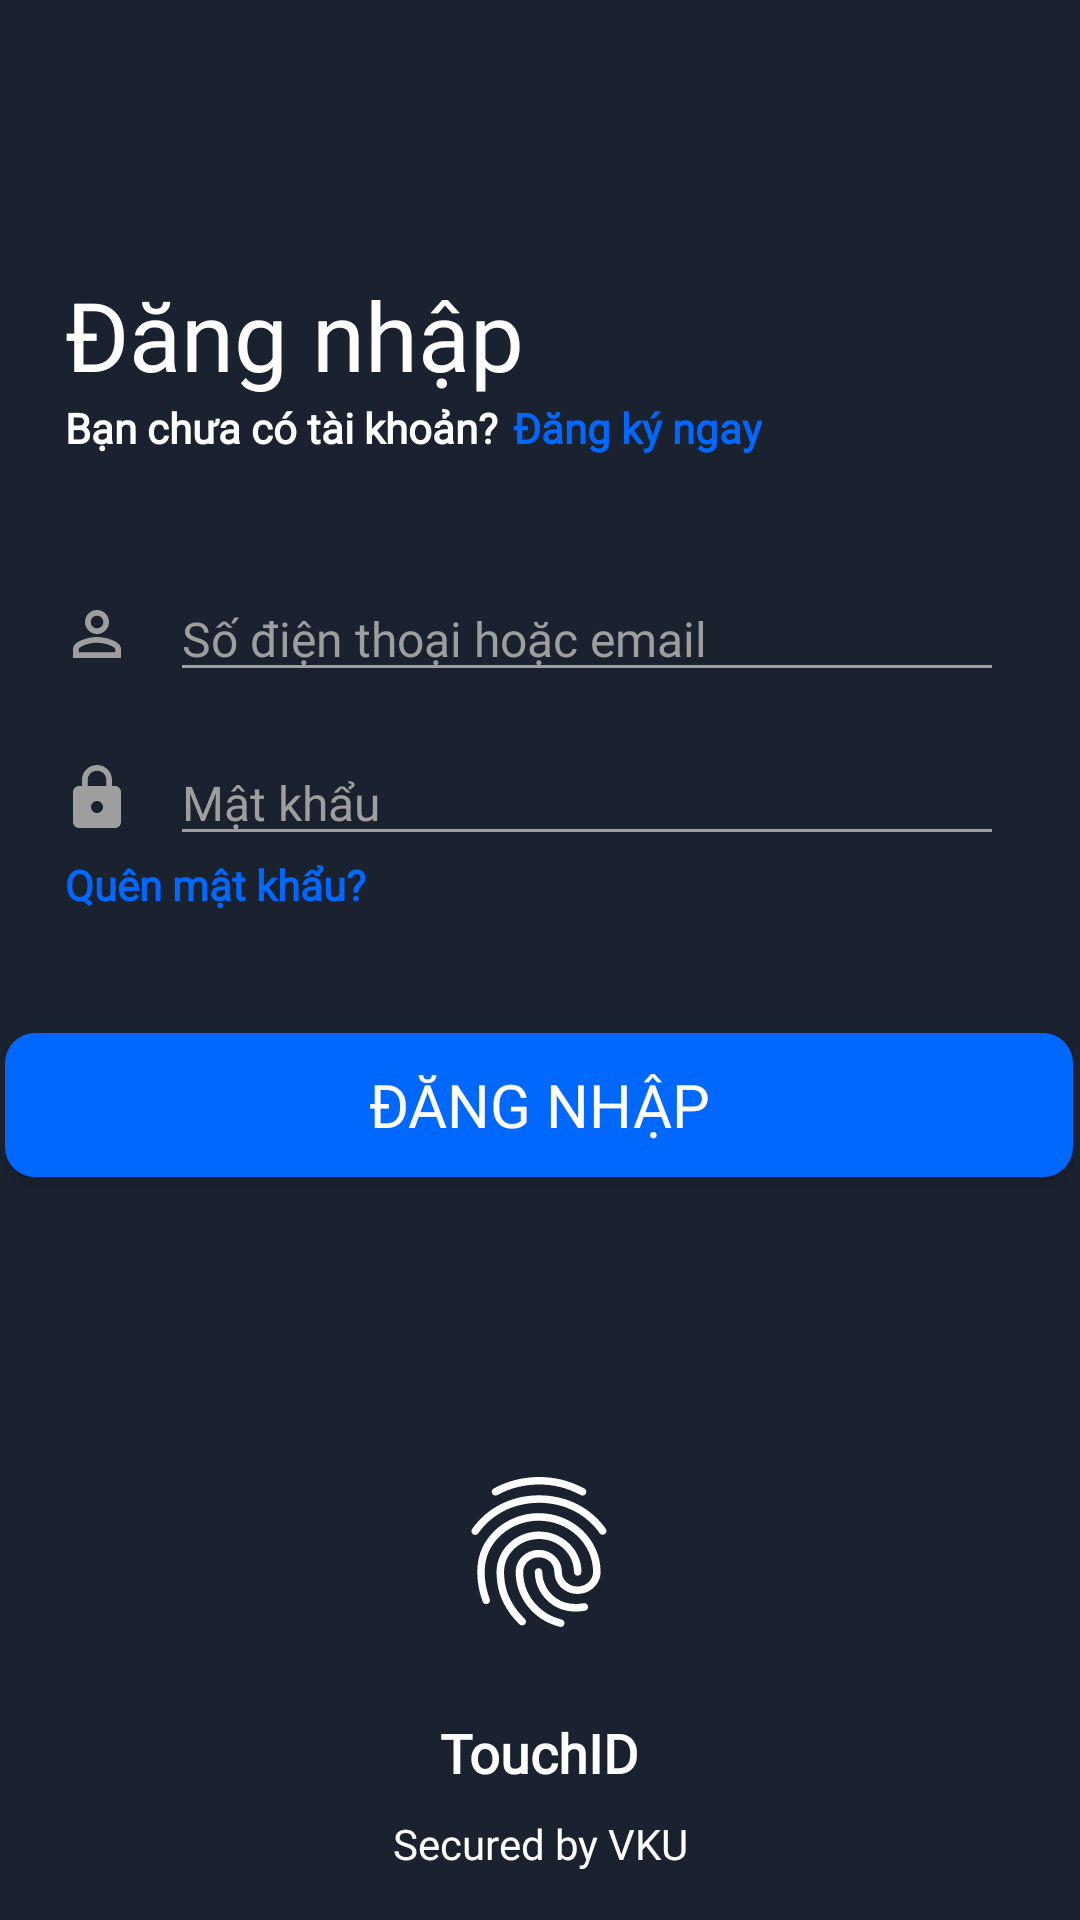

Point at icon controls on the screen. Image size 1080w x 1920h, points as point (x, y).
fingerprint: point (539, 1552)
lock: point (97, 796)
person: point (97, 634)
